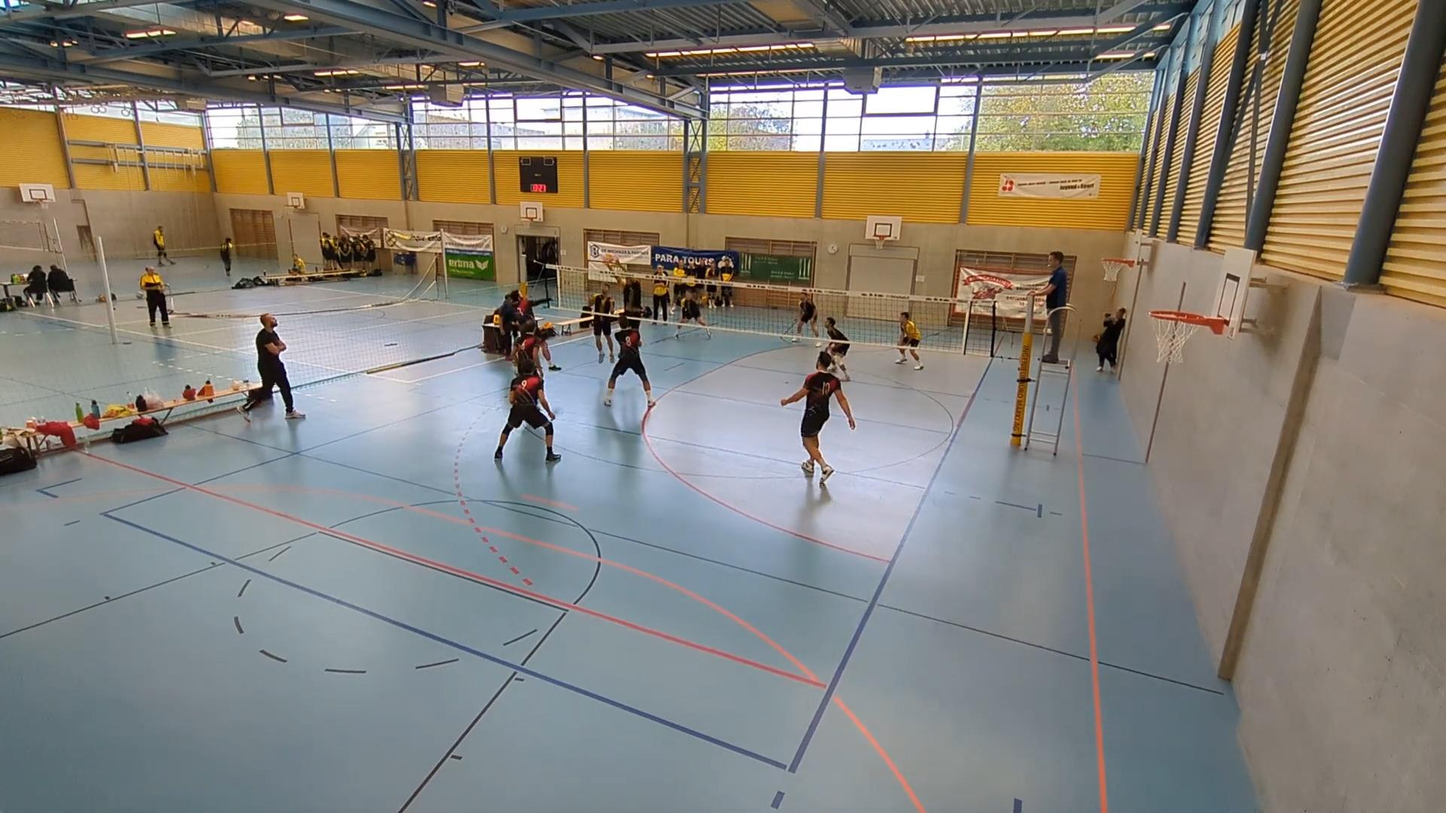attacco: (512, 287, 564, 375)
muro: (605, 256, 644, 326)
